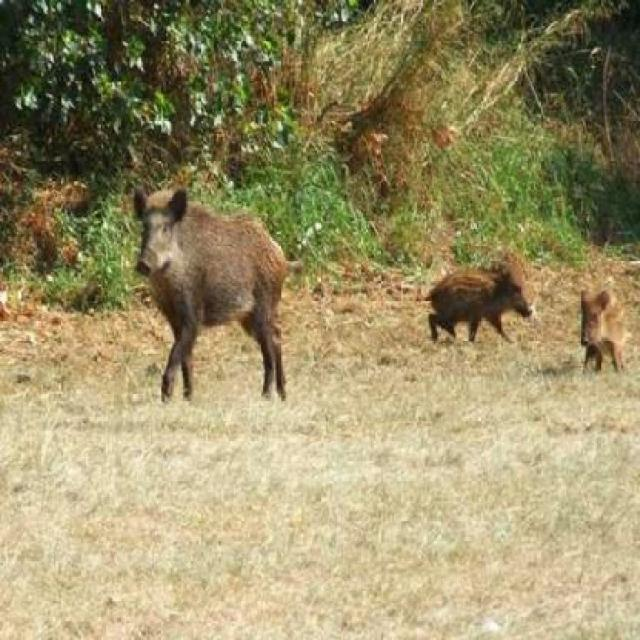pig: (142, 178, 320, 401), (385, 235, 542, 354), (563, 270, 639, 402)
